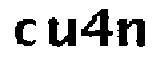4: (79, 8, 113, 48)
c: (12, 16, 40, 50)
n: (115, 16, 149, 52)
u: (46, 15, 78, 50)
